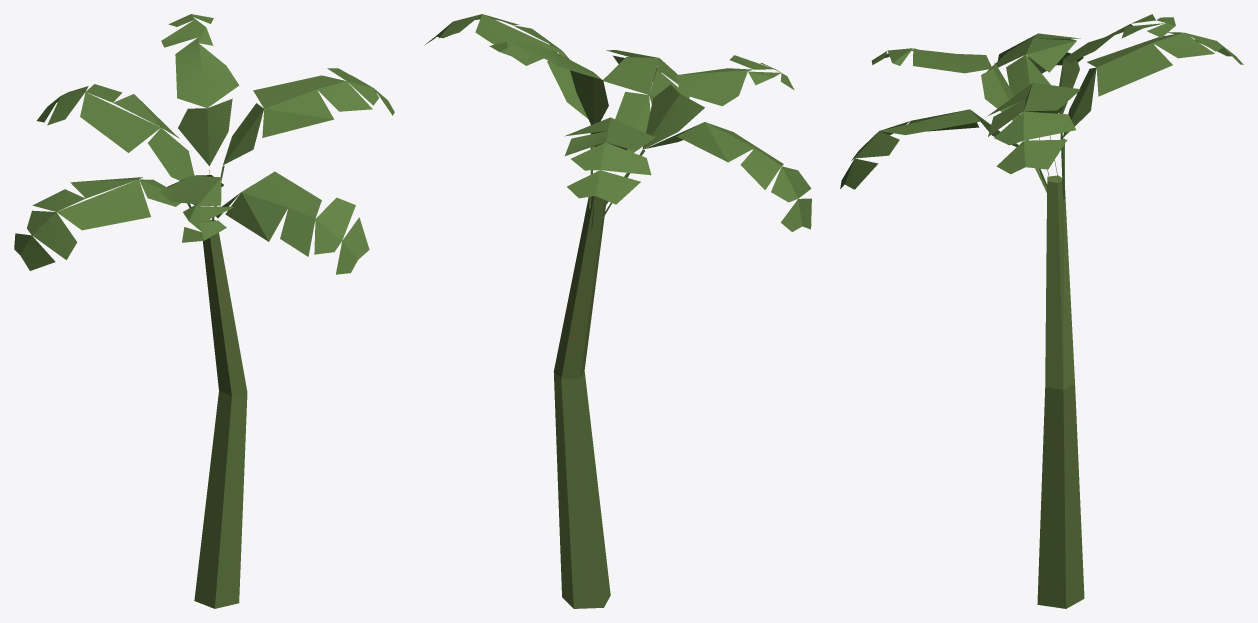
Rendered from Tree_Palm_04.fbx.
3 views of the same model, side by side, from view 1: azimuth 30°, elevation 25°; view 2: azimuth 150°, elevation 25°; view 3: azimuth 270°, elevation 25° (orthographic). The views are drawn at different scales.
Parts seen in each view (by area): view 1: Tree_Palm_04; view 2: Tree_Palm_04; view 3: Tree_Palm_04.
Part boxes in pixels (<box>): Tree_Palm_04: <box>14,14,394,608</box>; Tree_Palm_04: <box>425,14,811,608</box>; Tree_Palm_04: <box>840,14,1243,608</box>.
Size of the model in its own units: 128 by 186 by 115.
